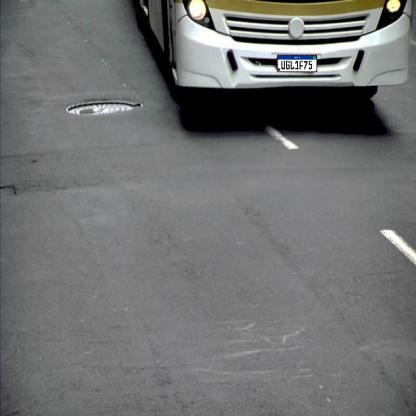PlacaM: (277, 55, 317, 72)
